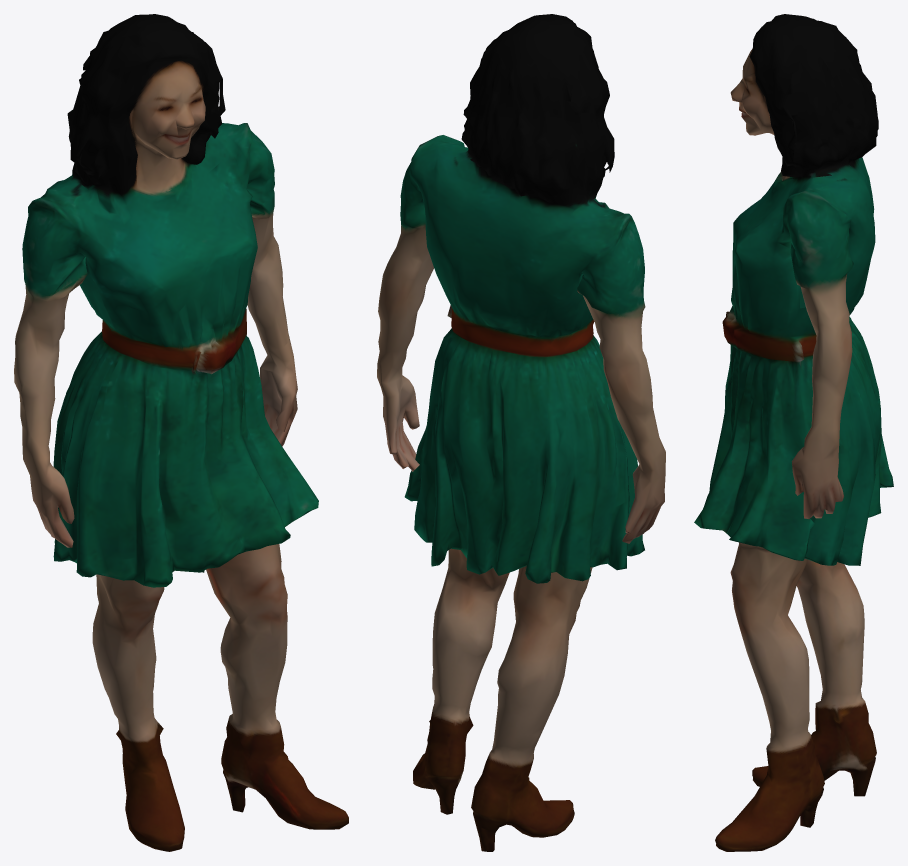
Rendered from masyarakat_3_idle.glb.
3 views of the same model, side by side, from view 1: azimuth 30°, elevation 25°; view 2: azimuth 150°, elevation 25°; view 3: azimuth 270°, elevation 25° (orthographic). The views are drawn at different scales.
Visible parts, largest first — view 1: tripo_node_889656db; view 2: tripo_node_889656db; view 3: tripo_node_889656db.
Boxes of the visible parts, bbox=[...] form: tripo_node_889656db: bbox=[14, 14, 348, 851]; tripo_node_889656db: bbox=[377, 14, 665, 851]; tripo_node_889656db: bbox=[694, 14, 893, 851].
Size of the model in its own units: 35.27 by 98.57 by 23.34.
Materials: 1 (1 with a texture image).
